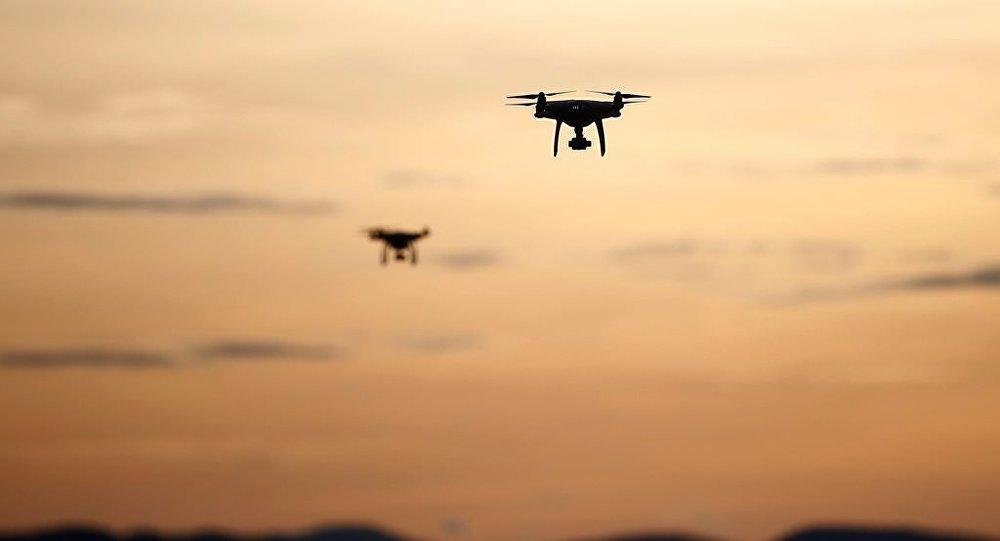drone: (497, 82, 659, 154), (360, 219, 440, 263)
